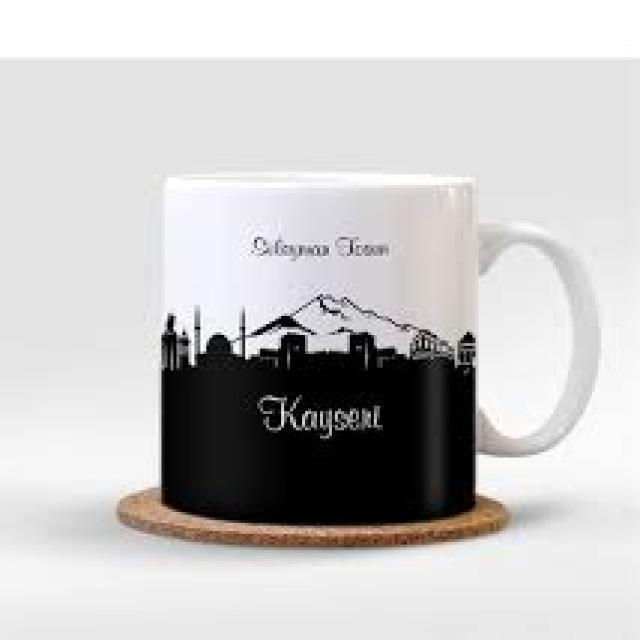taza: (160, 171, 602, 527)
